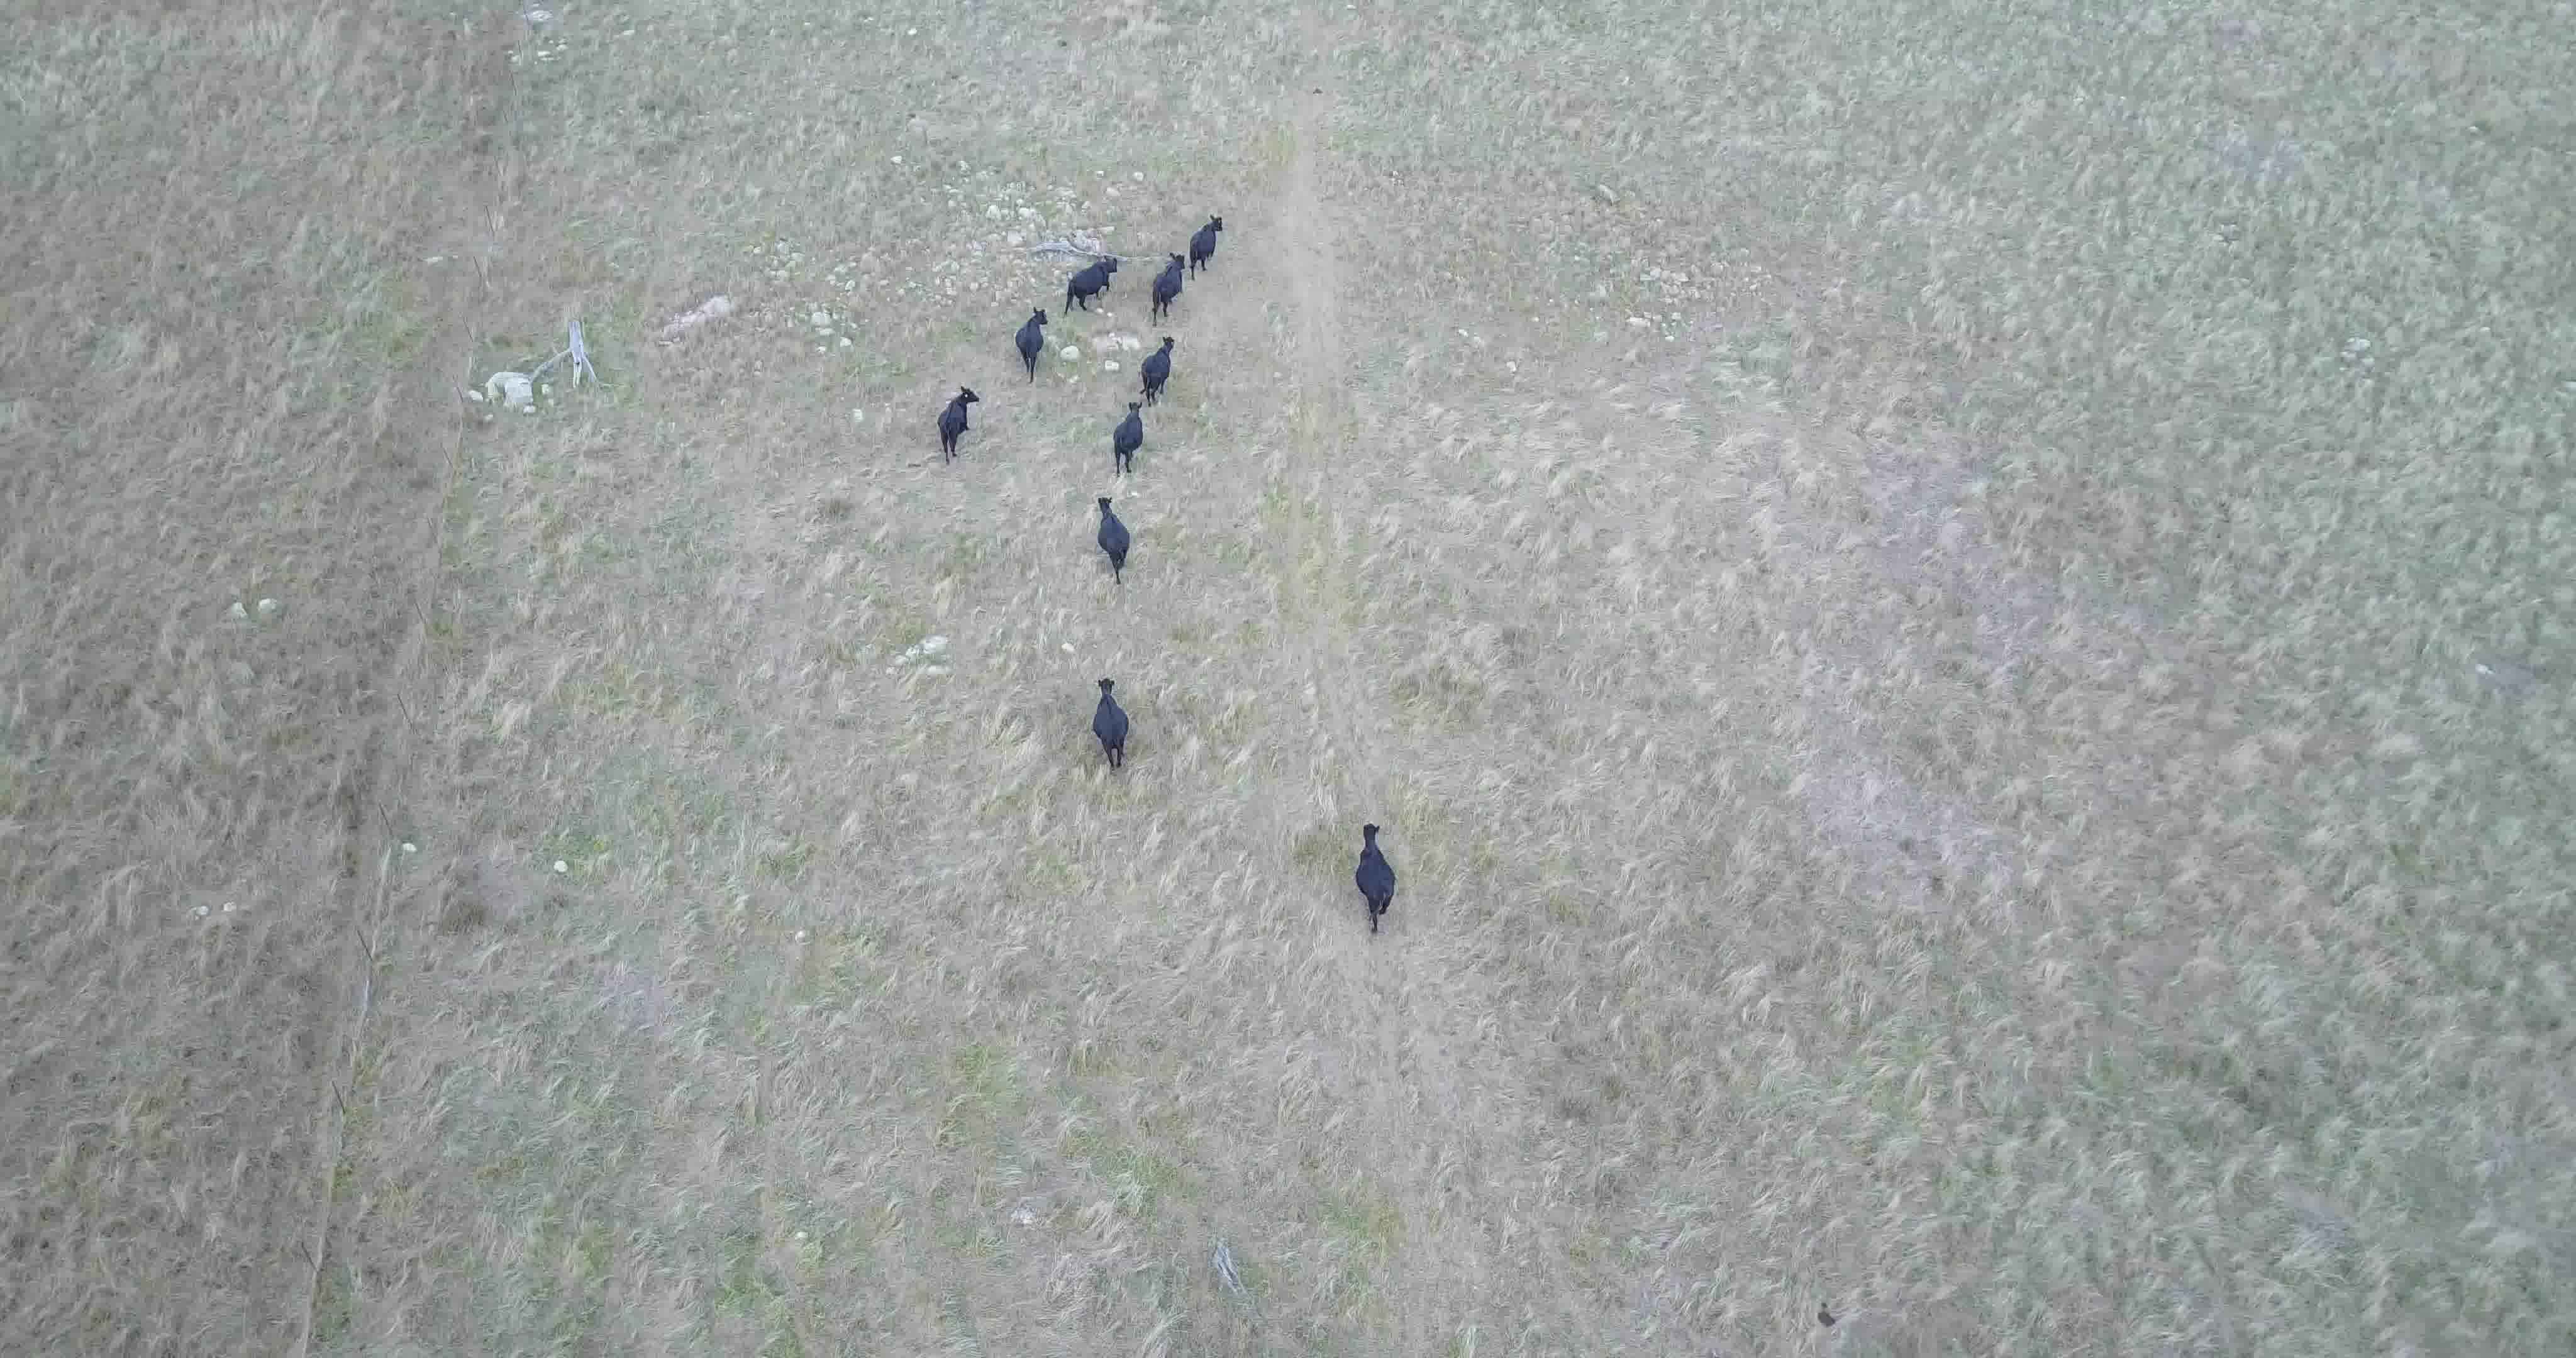cattle: (1351, 818, 1400, 942), (1087, 675, 1133, 777), (1092, 492, 1136, 591), (935, 385, 981, 469), (1063, 256, 1119, 319), (1148, 252, 1187, 332), (1138, 336, 1177, 411), (1012, 305, 1048, 387), (1187, 213, 1227, 285), (1111, 400, 1145, 480)
